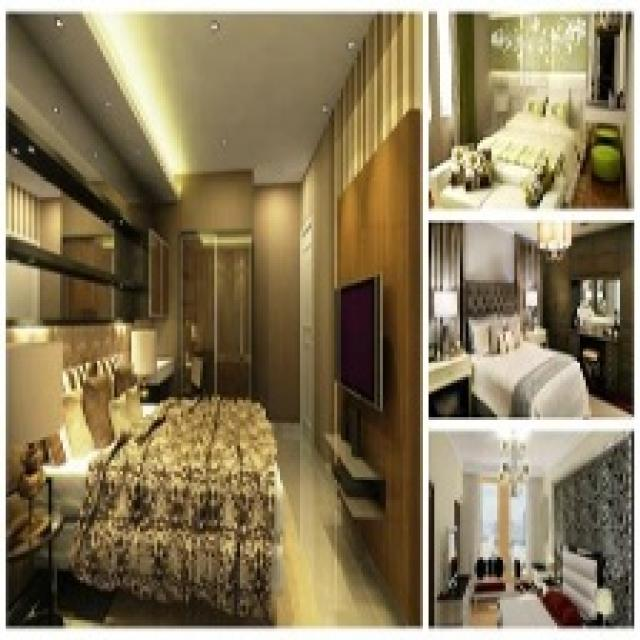Bed: (428, 85, 583, 208)
